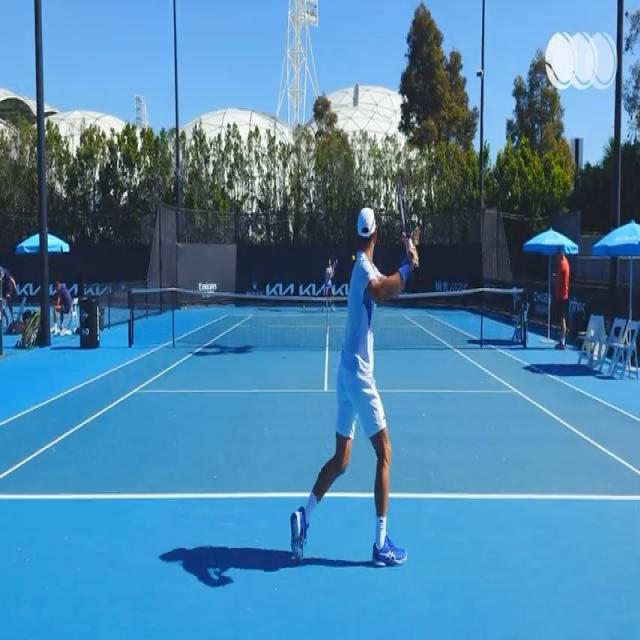forehand-ready: (292, 195, 416, 565)
